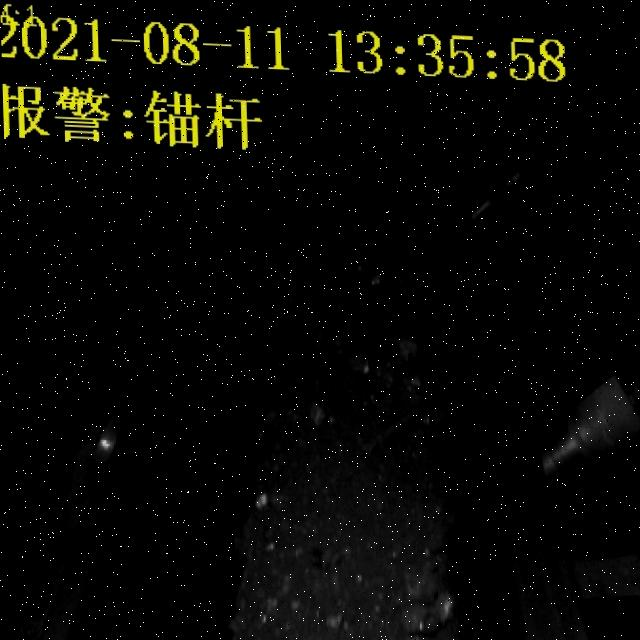bolt: (355, 378, 443, 463)
